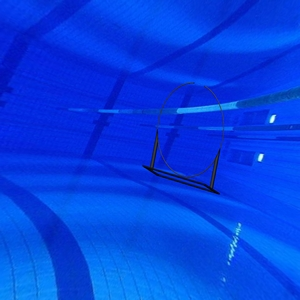circle: (142, 79, 226, 198)
